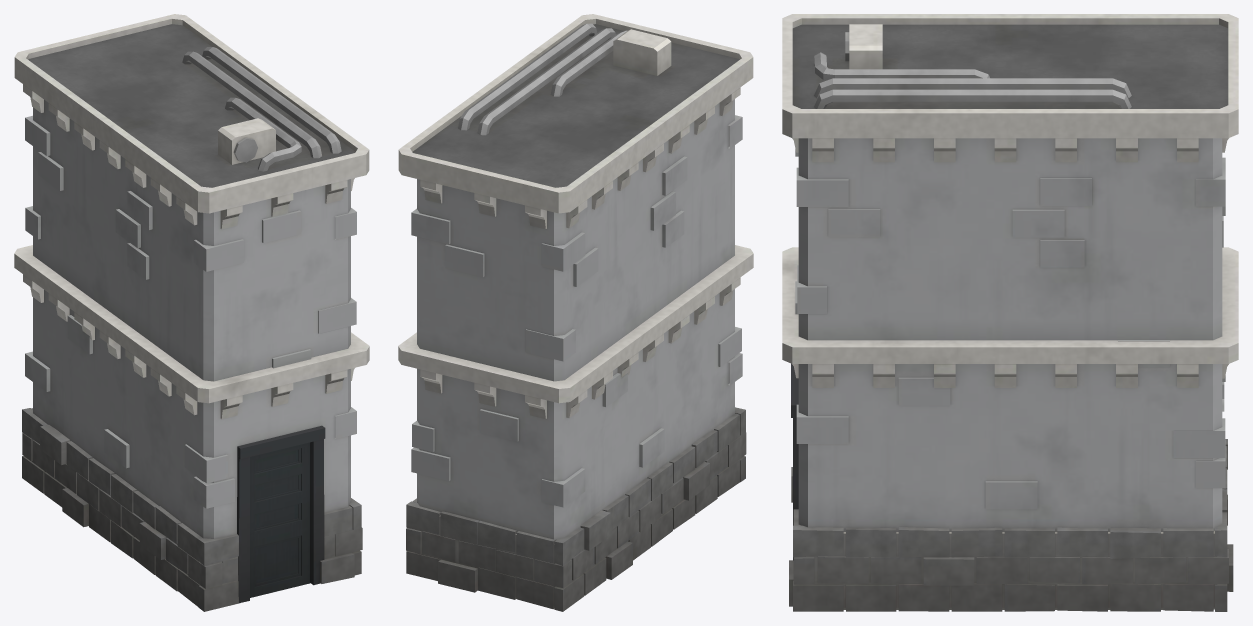
File: 2Story_Slim.glb
3 renders of one model, left to right at view 1: azimuth 30°, elevation 25°; view 2: azimuth 150°, elevation 25°; view 3: azimuth 270°, elevation 25°, orthographic. The views are drawn at different scales.
Visible parts, largest first — view 1: 2Story_Slim_high; view 2: 2Story_Slim_high; view 3: 2Story_Slim_high.
Part boxes in pixels (left/top/right/bottom): 2Story_Slim_high: left=14, top=14, right=369, bottom=611; 2Story_Slim_high: left=398, top=14, right=753, bottom=611; 2Story_Slim_high: left=782, top=14, right=1238, bottom=611.
Bounding box in the file's own units: 1.12 × 2.76 × 2.15.
Materials: 1 (1 with a texture image).
